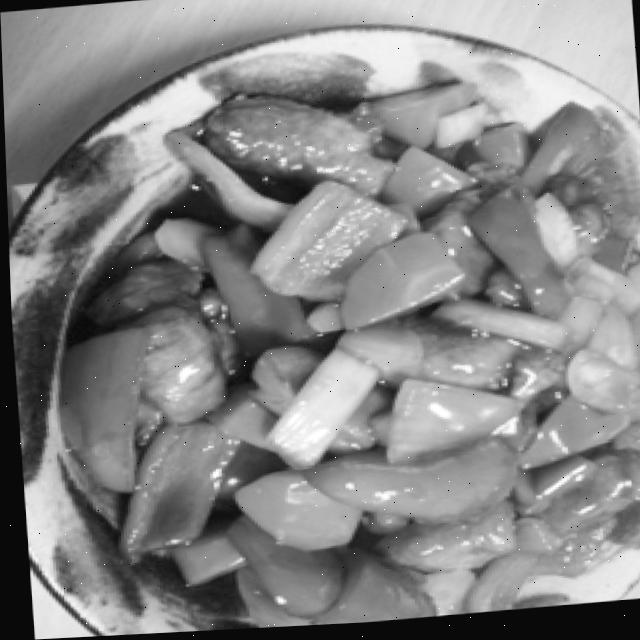猪肉菜式: (41, 58, 640, 638)
